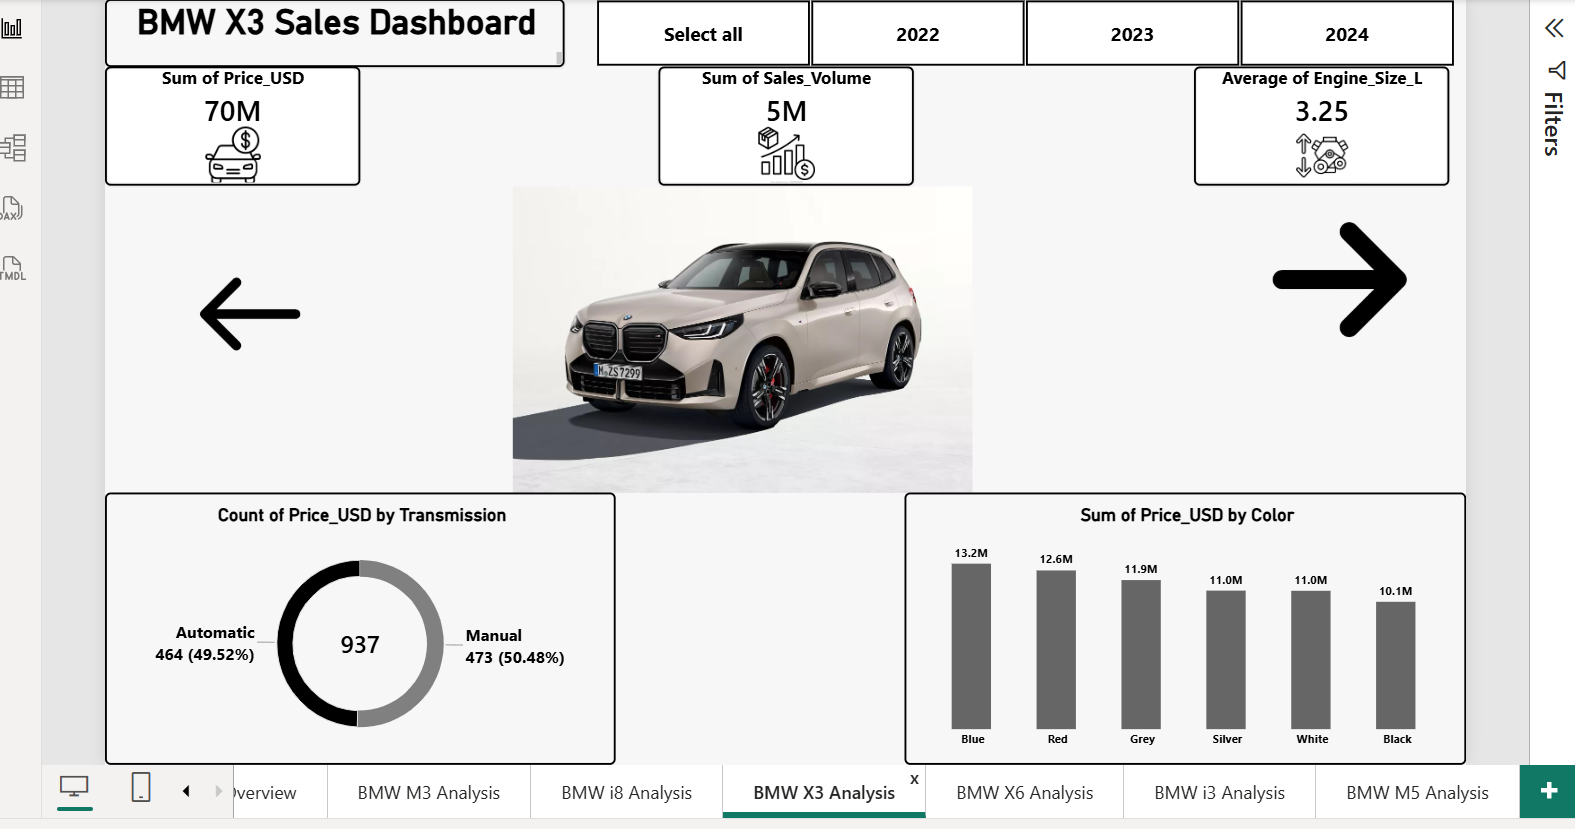

Layout of this report page (visuals, bound fields, positions):
{"tool":"powerbi","page":{"name":"BMW X3 Analysis","canvas":[1920,1080],"ordinal":3},"visuals":[{"type":"image","box":[240,264,1320,432],"z":0},{"type":"slicer","fields":{"Values":["BMW_Car_Sales_Classification.Year"]},"box":[672,0,1248,96],"z":1000},{"type":"textbox","title":"BMW  X3 Sales Dashboard","box":[0,0,648,96],"z":2000},{"type":"cardVisual","fields":{"Data":["Sum(BMW_Car_Sales_Classification.Price_USD)"]},"box":[0,96,360,168],"z":3000},{"type":"cardVisual","fields":{"Data":["Avg(BMW_Car_Sales_Classification.Engine_Size_L)"]},"box":[1536,96,360,168],"z":4000},{"type":"cardVisual","fields":{"Data":["Sum(BMW_Car_Sales_Classification.Sales_Volume)"]},"box":[780,96,360,168],"z":5000},{"type":"columnChart","fields":{"Category":["BMW_Car_Sales_Classification.Color"],"Y":["Sum(BMW_Car_Sales_Classification.Price_USD)"]},"box":[1128,696,792,384],"z":6000},{"type":"donutChart","fields":{"Category":["BMW_Car_Sales_Classification.Transmission"],"Y":["CountNonNull(BMW_Car_Sales_Classification.Price_USD)"]},"box":[0,696,720,384],"z":7000},{"type":"image","box":[1560,288,360,216],"z":8000},{"type":"image","box":[24,336,360,216],"z":8001}]}

Visuals, with their boxes on the page's 1920x1080 design canvas (x1, y1, x2, y2). These are canvas units, not pixel positions in the 1575x829 screenshot, which may show the page scaled, cropped or inside an application window:
image: bbox=[240, 264, 1560, 696]
slicer - BMW_Car_Sales_Classification.Year: bbox=[672, 0, 1920, 96]
"BMW  X3 Sales Dashboard" textbox: bbox=[0, 0, 648, 96]
cardVisual - Sum(BMW_Car_Sales_Classification.Price_USD): bbox=[0, 96, 360, 264]
cardVisual - Avg(BMW_Car_Sales_Classification.Engine_Size_L): bbox=[1536, 96, 1896, 264]
cardVisual - Sum(BMW_Car_Sales_Classification.Sales_Volume): bbox=[780, 96, 1140, 264]
columnChart - BMW_Car_Sales_Classification.Color x Sum(BMW_Car_Sales_Classification.Price_USD): bbox=[1128, 696, 1920, 1080]
donutChart - BMW_Car_Sales_Classification.Transmission x CountNonNull(BMW_Car_Sales_Classification.Price_USD): bbox=[0, 696, 720, 1080]
image: bbox=[1560, 288, 1920, 504]
image: bbox=[24, 336, 384, 552]
